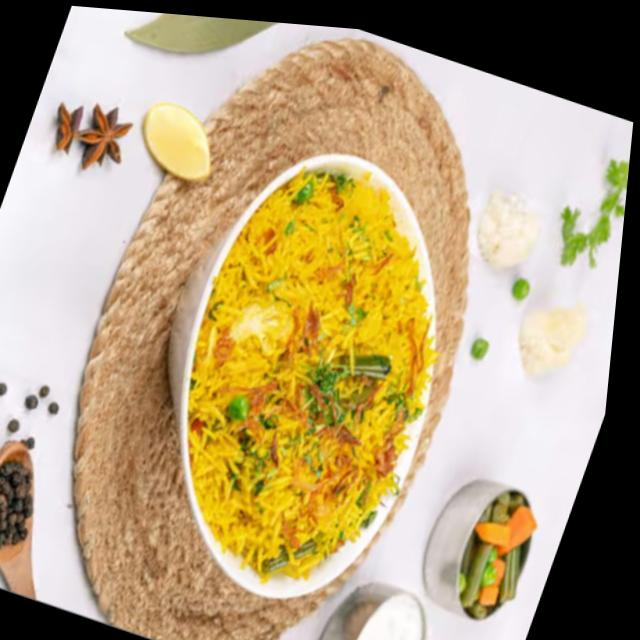BIRIYANI: (164, 148, 437, 597)
CURD: (353, 585, 432, 640)
VEGGIES: (444, 472, 544, 631)
